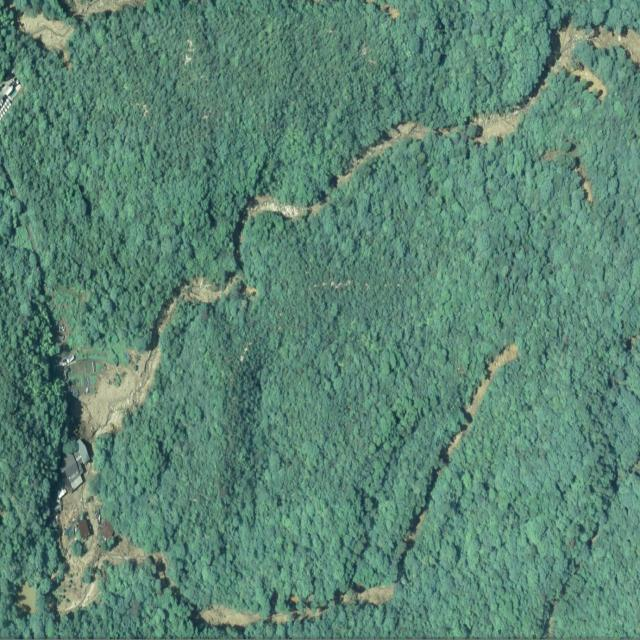landslide: (332, 24, 640, 188), (70, 267, 242, 441), (199, 583, 395, 629), (444, 344, 519, 461), (234, 193, 330, 266), (58, 538, 144, 616), (18, 13, 73, 50), (58, 484, 98, 530), (73, 0, 135, 17)
